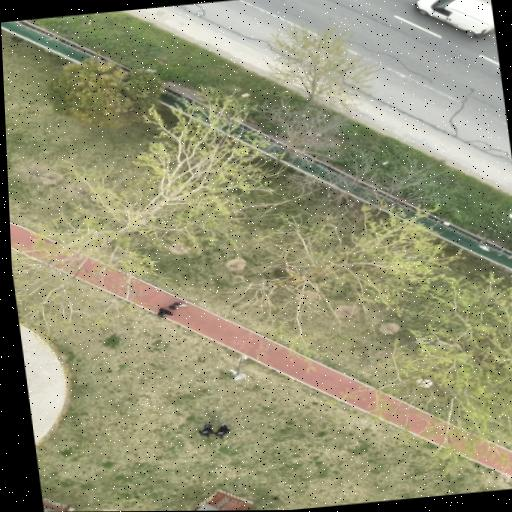car: (417, 0, 493, 37)
person: (213, 424, 230, 437), (198, 425, 213, 437), (157, 309, 173, 318), (169, 302, 187, 310)
